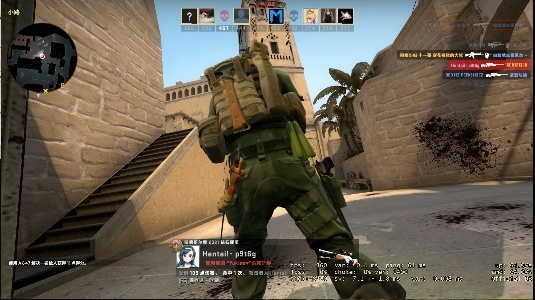body: (205, 52, 382, 300)
